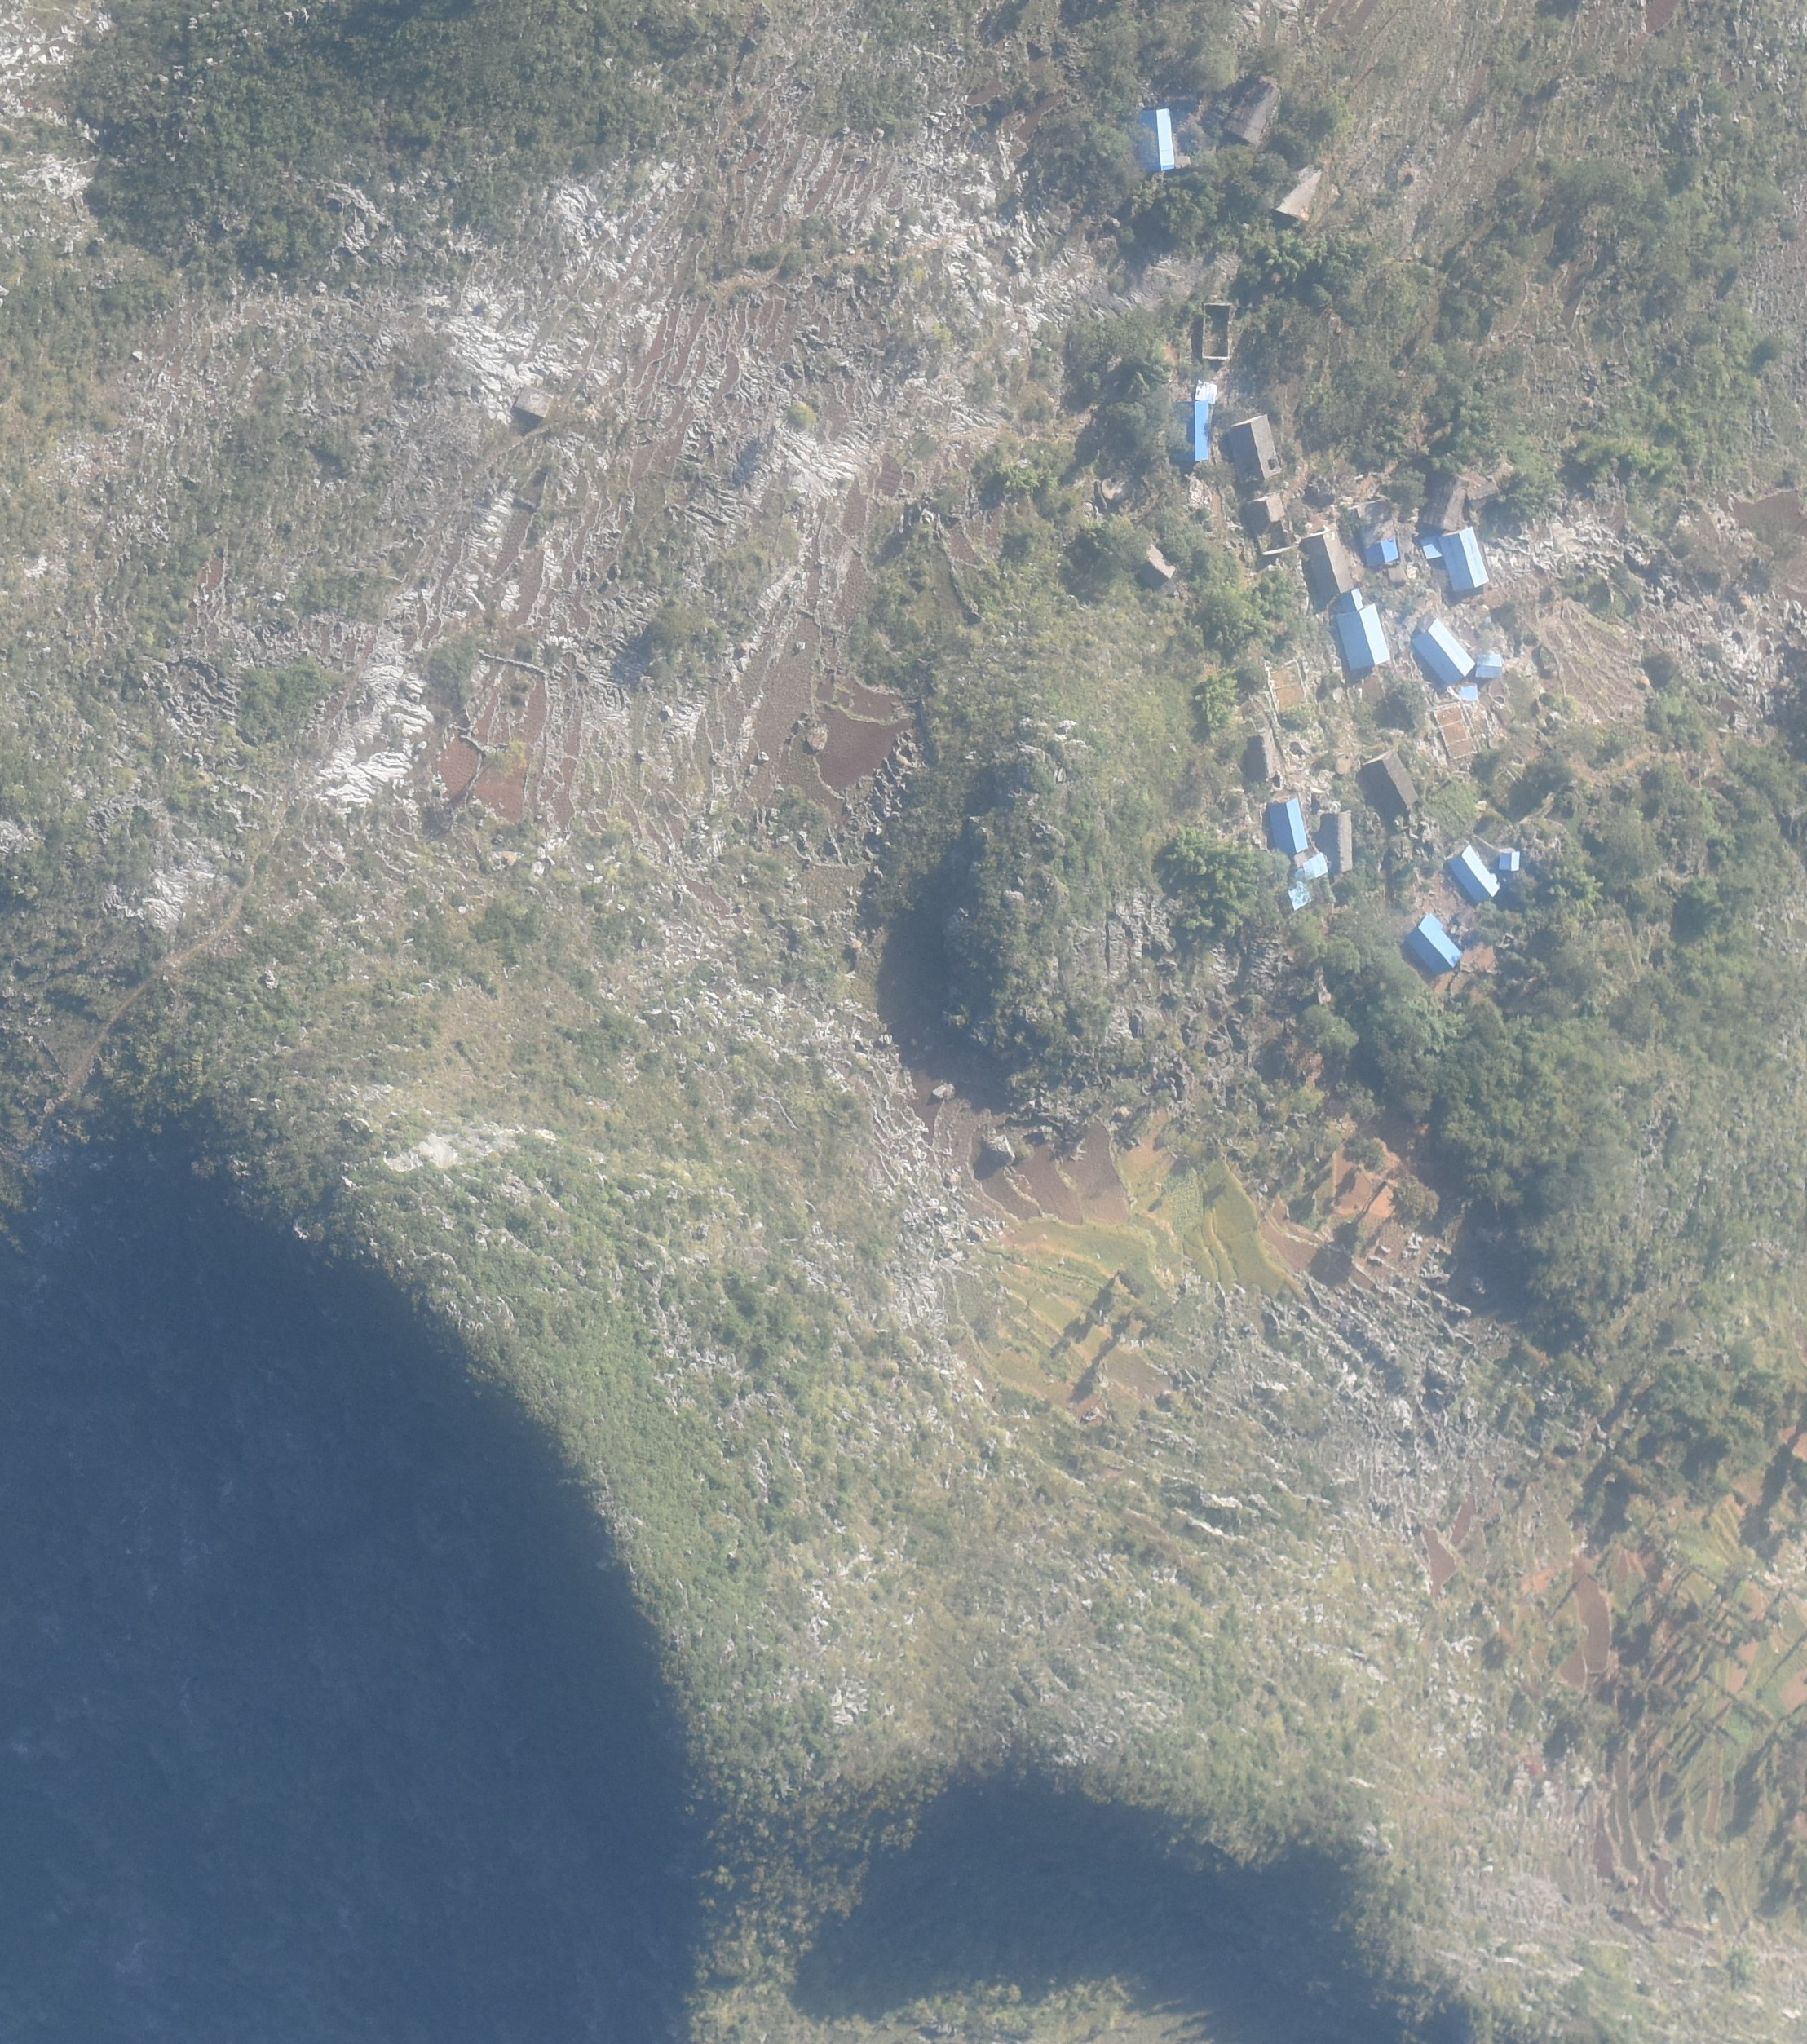building: (1224, 72, 1282, 147), (1230, 413, 1279, 484), (1305, 528, 1353, 598), (1274, 155, 1323, 223), (1363, 752, 1417, 813), (1422, 470, 1471, 532), (1324, 810, 1354, 874), (1137, 545, 1173, 588), (1204, 301, 1230, 360), (1246, 492, 1283, 528), (1467, 481, 1502, 510)
prefabricated-house: (1412, 619, 1476, 682), (1336, 603, 1391, 670), (1438, 525, 1489, 592), (1407, 912, 1461, 974), (1447, 846, 1500, 903), (1266, 797, 1310, 854), (1138, 109, 1176, 171), (1177, 400, 1210, 462), (1363, 540, 1399, 566), (1297, 852, 1328, 882), (1286, 881, 1310, 910), (1476, 653, 1500, 678), (1340, 588, 1363, 613), (1422, 533, 1444, 559), (1499, 850, 1522, 872), (1195, 381, 1218, 403), (1459, 683, 1480, 703)
well: (1332, 752, 1356, 779)
